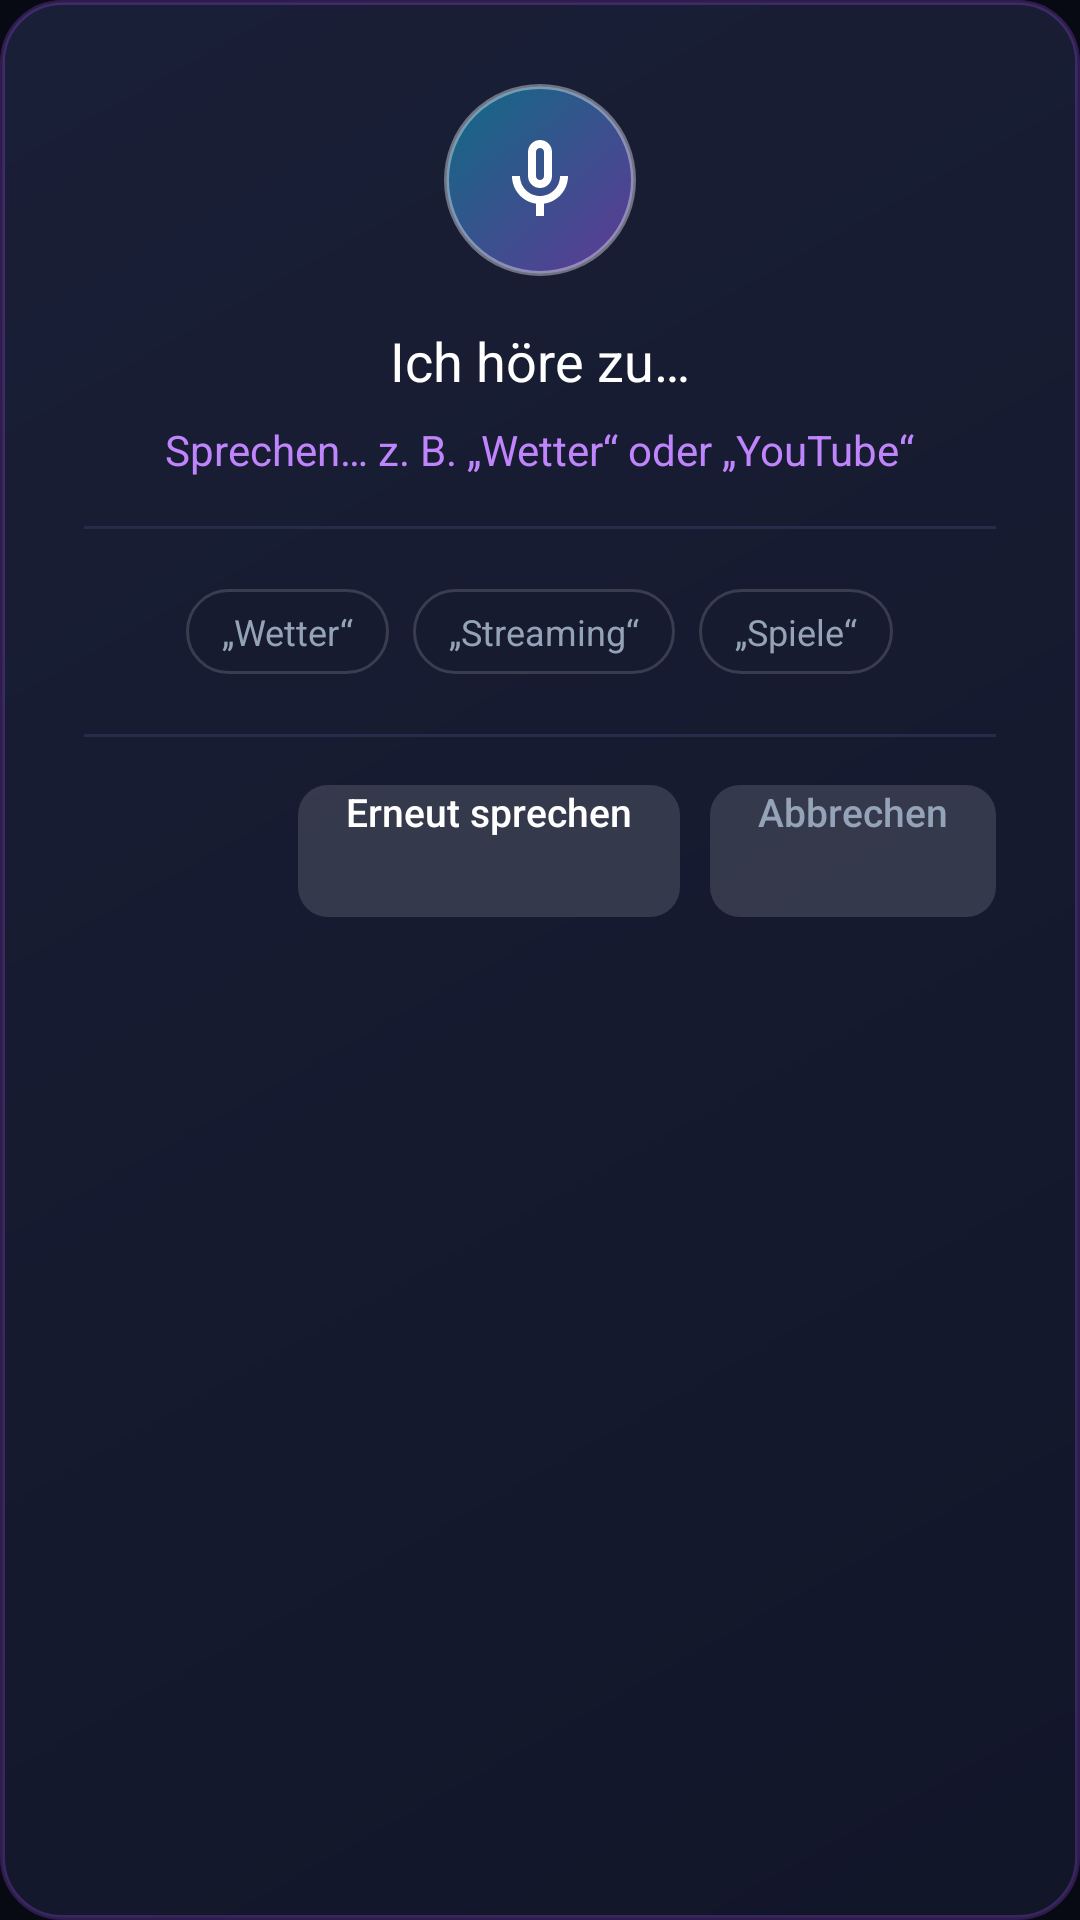

Where icons sit on this 1080 x 1920 app screen, as (x1, y1, x2, y2):
Sprachsuche: (512, 140, 568, 216)
